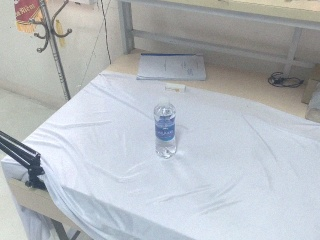bottle: (154, 97, 177, 159)
